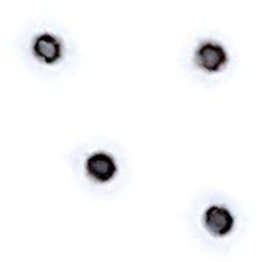cancer: (11, 16, 84, 85), (180, 183, 250, 252), (65, 133, 135, 199), (175, 24, 243, 89)
